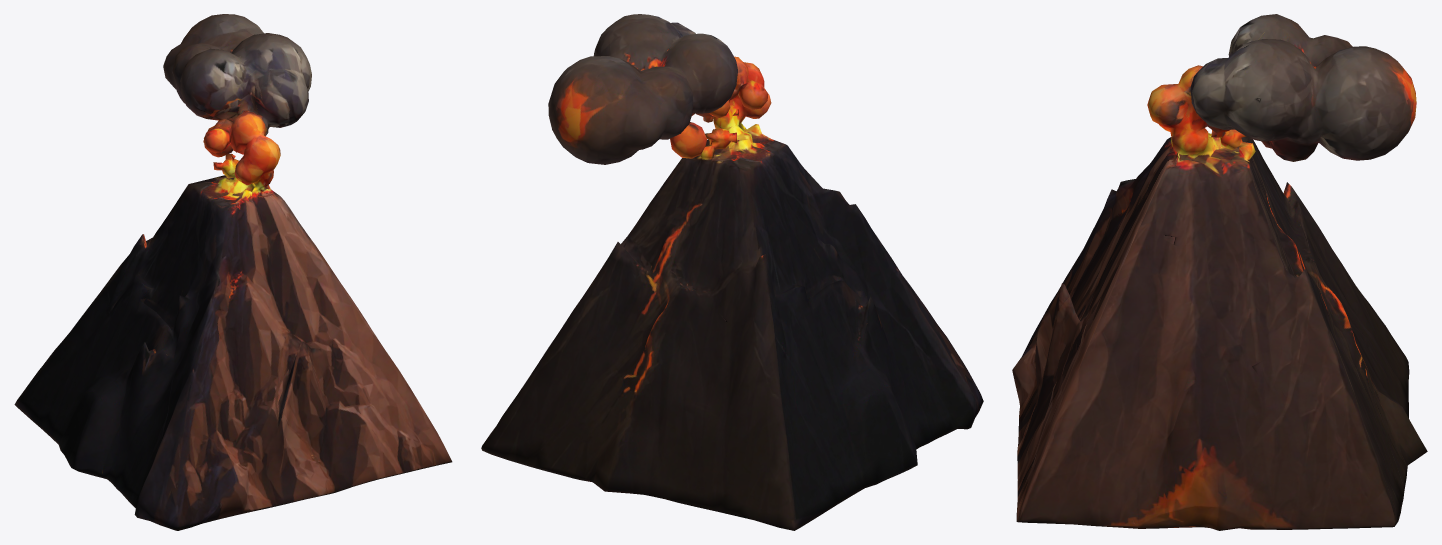
Rendered from Fire_Volcano.glb.
3 renders of one model, left to right at view 1: azimuth 30°, elevation 25°; view 2: azimuth 150°, elevation 25°; view 3: azimuth 270°, elevation 25°, orthographic. The views are drawn at different scales.
Parts seen in each view (by area): view 1: Mesh_0; view 2: Mesh_0; view 3: Mesh_0.
Boxes of the visible parts, x1,y1,x2,y2 form: Mesh_0: (14, 14, 452, 530); Mesh_0: (481, 14, 983, 530); Mesh_0: (1012, 14, 1427, 530).
Bounding box in the file's own units: 0.1779 × 0.2 × 0.1721.
Materials: 1 (1 with a texture image).
